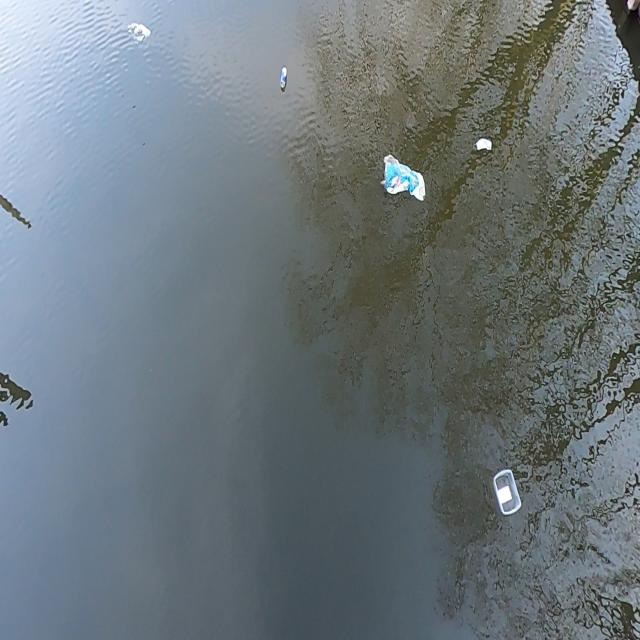Autre plastique: (490, 459, 524, 522)
Non plastique: (468, 130, 498, 159), (279, 66, 289, 93)
Sac plastique: (379, 149, 427, 208), (124, 14, 153, 46)
